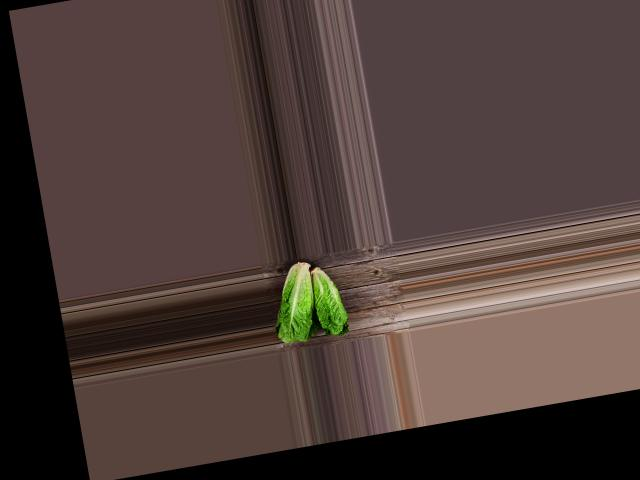lettuce: (263, 256, 323, 348)
